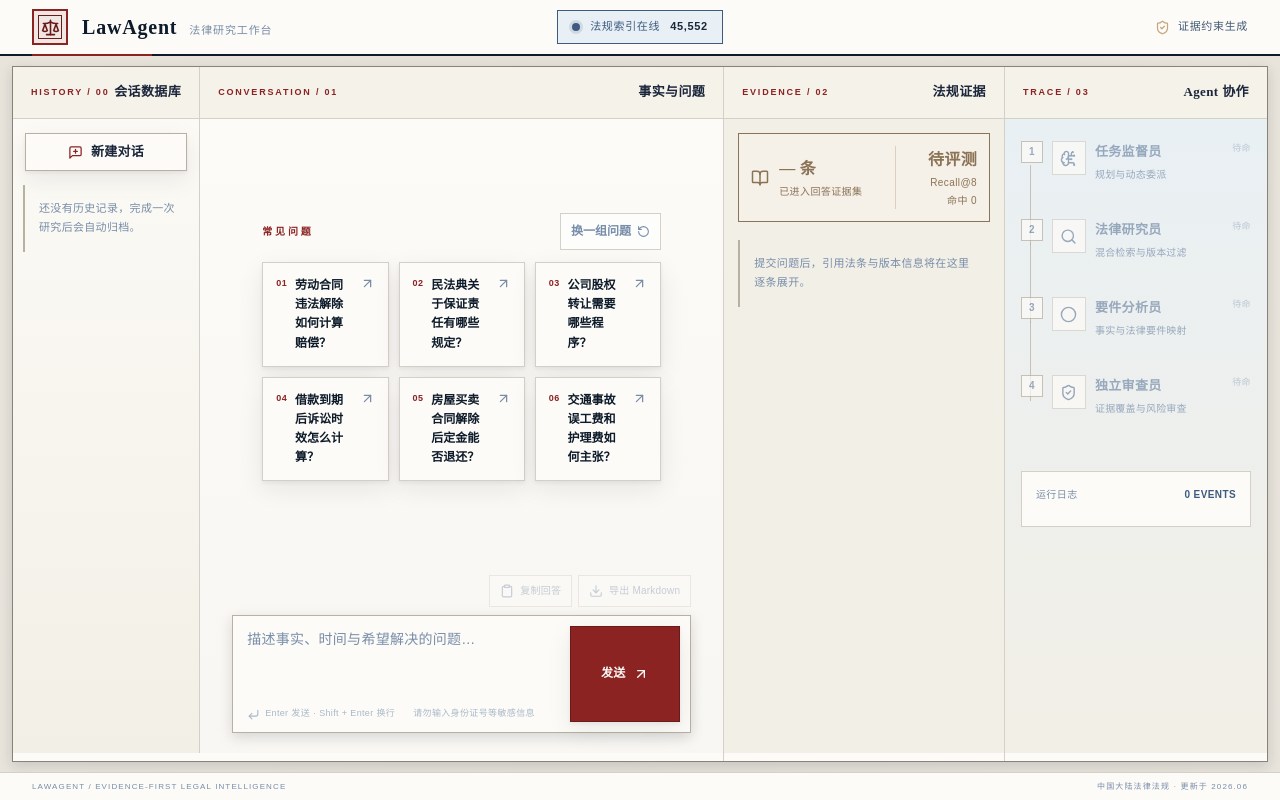
Test: LegalWorkspace › renders long citation ids as compact controls instead of raw inline hashes
Type "诉讼时效怎么计算？" into the text box with placeholder "描述事实、时间与希望解决的问题…" at [404, 663], box [247,628,560,697]
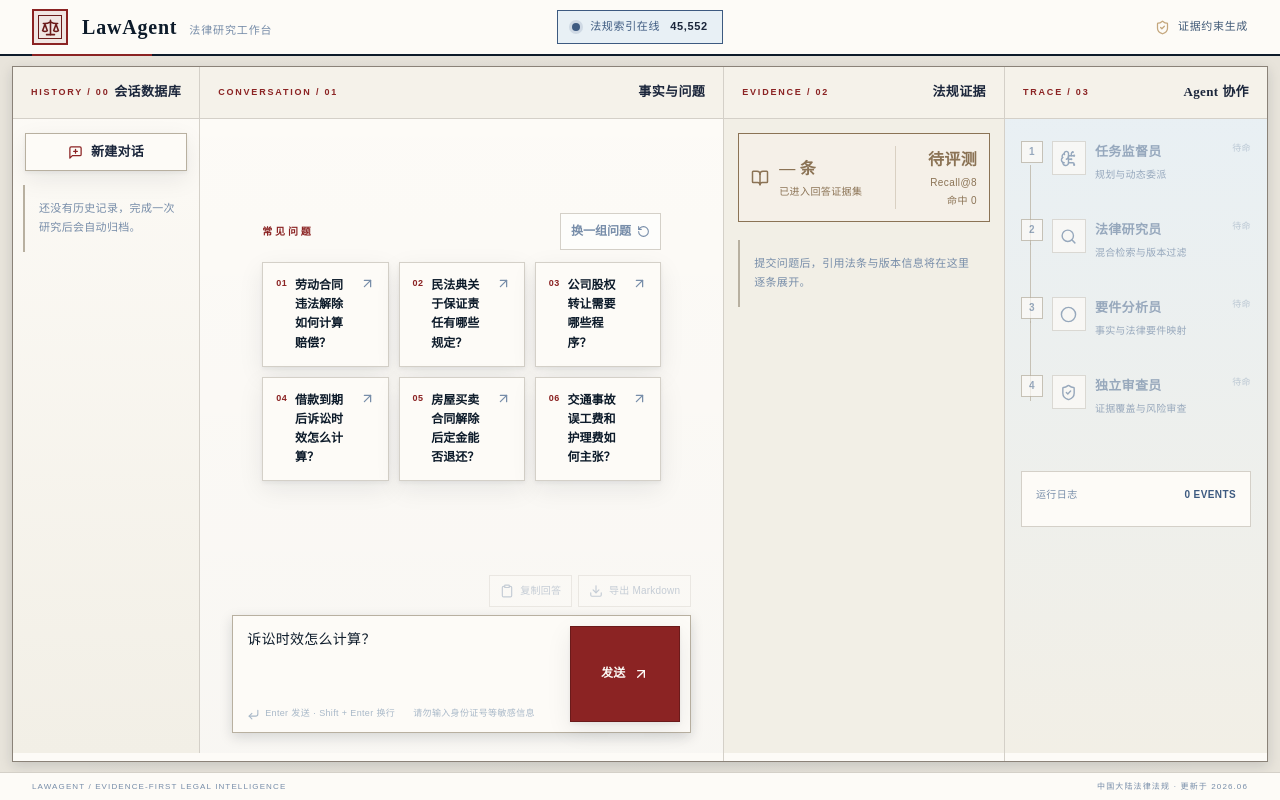
Click the button "发送" at [625, 674], box [570,626,680,722]
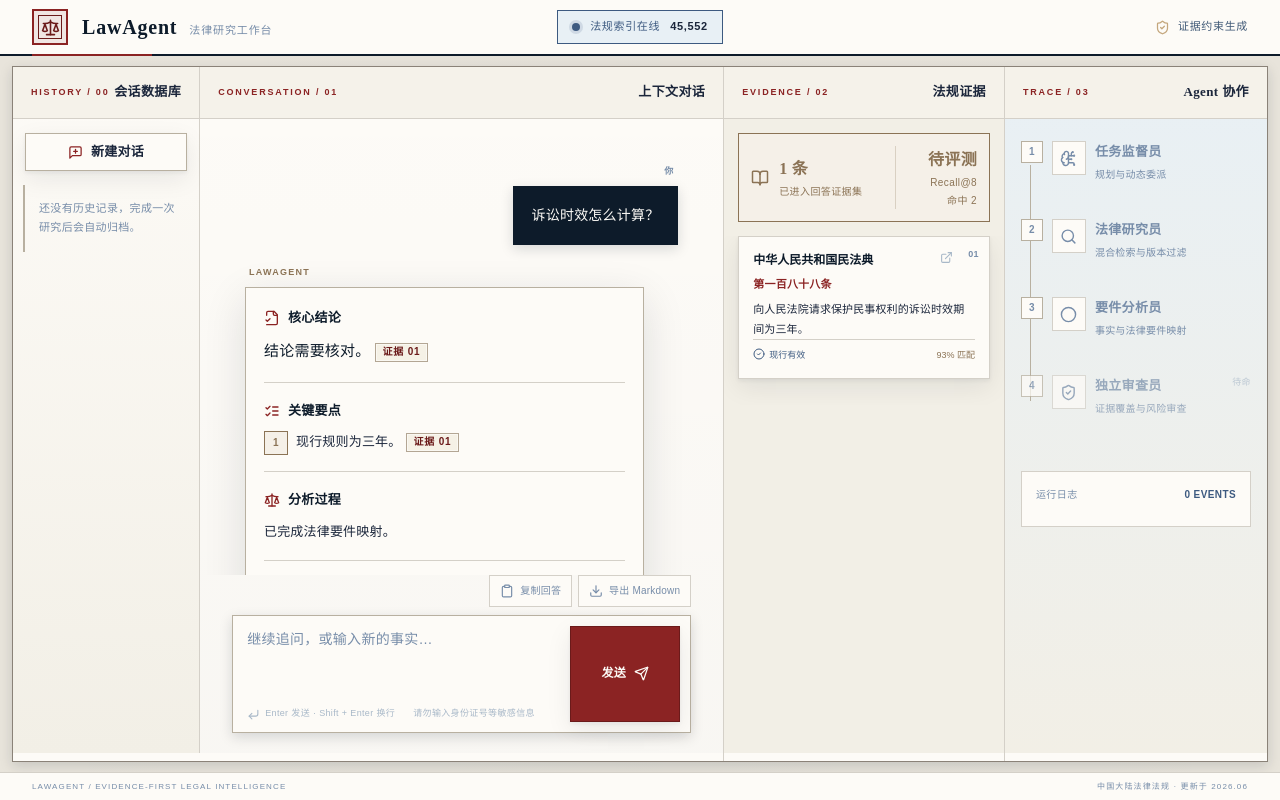
Now the button with aria-label "查看证据 822dd54d44335ef318746ffa" reads "证据 01", box [374,343,428,362]
Now the text "现行规则为三年。 证据 01" is shown, box [296,433,460,452]
